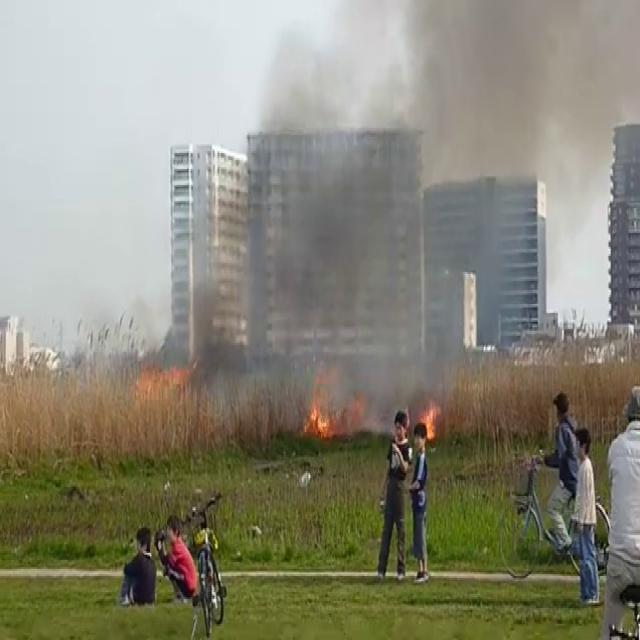Fire: (130, 348, 180, 412), (416, 389, 444, 447), (304, 400, 332, 440)
Smoke: (228, 0, 640, 420)
